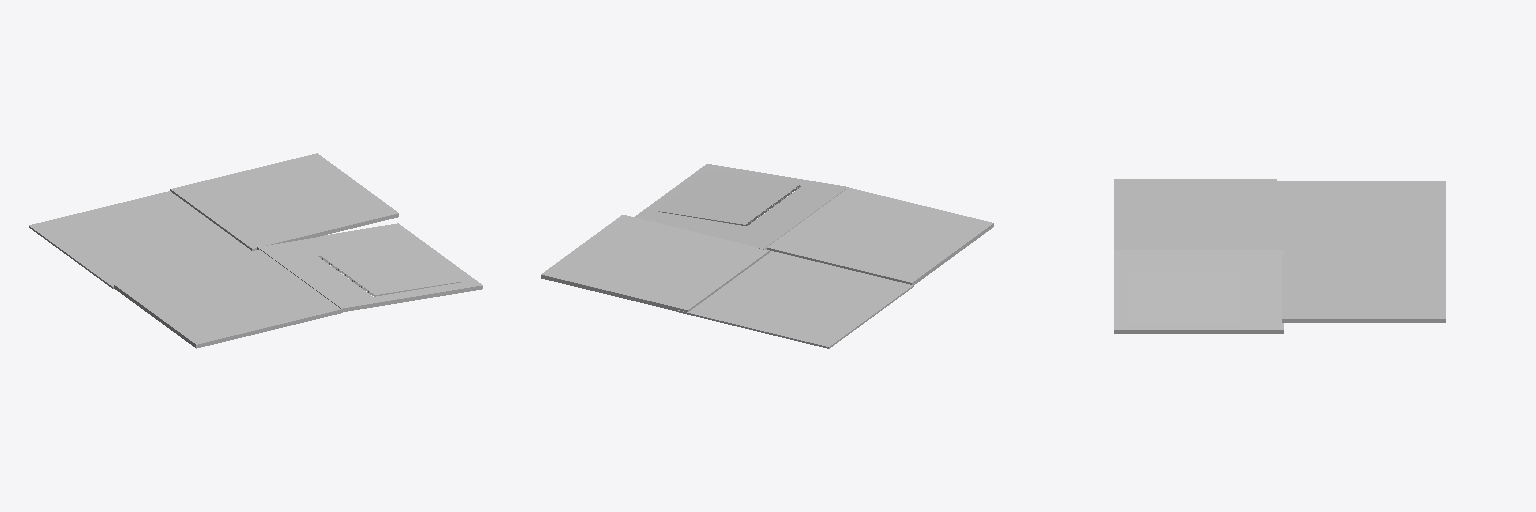
Rendered from ceiling2.obj.
3 renders of one model, left to right at view 1: azimuth 30°, elevation 25°; view 2: azimuth 150°, elevation 25°; view 3: azimuth 270°, elevation 25°, orthographic.
Visible parts, largest first — view 1: Ceiling.1; view 2: Ceiling.1; view 3: Ceiling.1.
Boxes of the visible parts, <box> form: Ceiling.1: <box>29,153,482,348</box>; Ceiling.1: <box>541,164,993,348</box>; Ceiling.1: <box>1114,179,1445,333</box>.
Bounding box in the file's own units: 1130 × 56.69 × 1129.